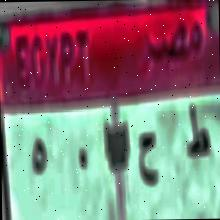0: (76, 146, 91, 176)
5: (29, 132, 50, 176)
7aa: (134, 126, 160, 194)
Taa: (186, 102, 210, 168)
